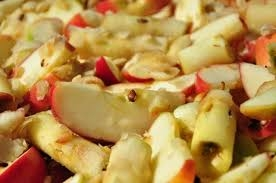kitchen_waste: (48, 75, 195, 138), (24, 110, 118, 178), (6, 37, 78, 94), (191, 87, 237, 176), (147, 109, 199, 183), (96, 8, 190, 42), (174, 32, 237, 76), (109, 132, 160, 183), (88, 53, 155, 90), (120, 49, 181, 84), (1, 142, 49, 183), (236, 73, 276, 116), (22, 77, 66, 112)
